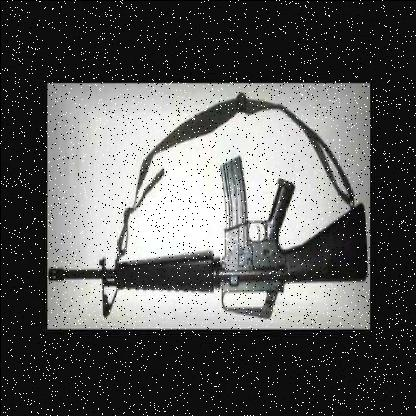rifle: (48, 171, 367, 326)
